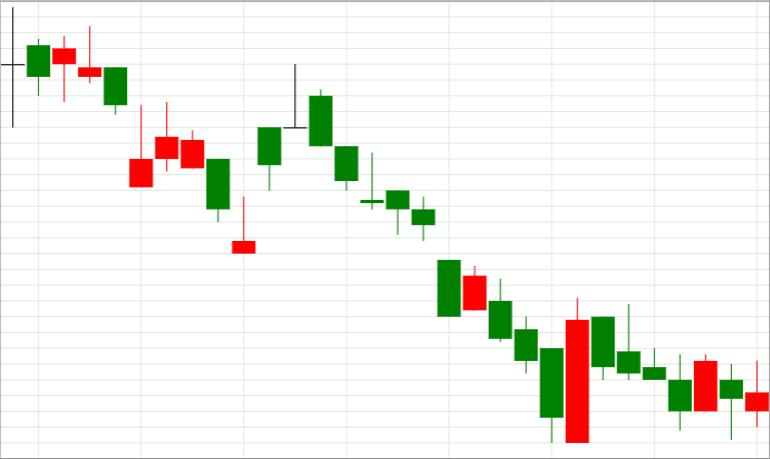hanging_man_fall: (309, 89, 589, 443)
